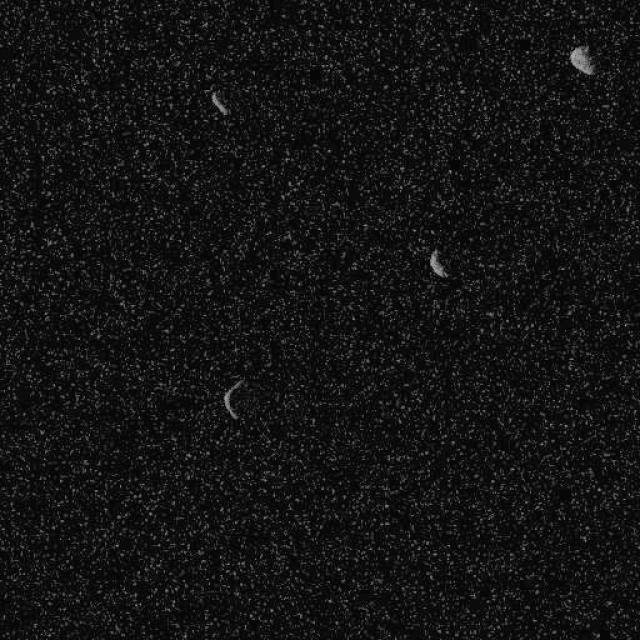D2: (222, 378, 246, 420), (569, 43, 595, 75), (428, 248, 448, 278), (209, 89, 230, 116)
